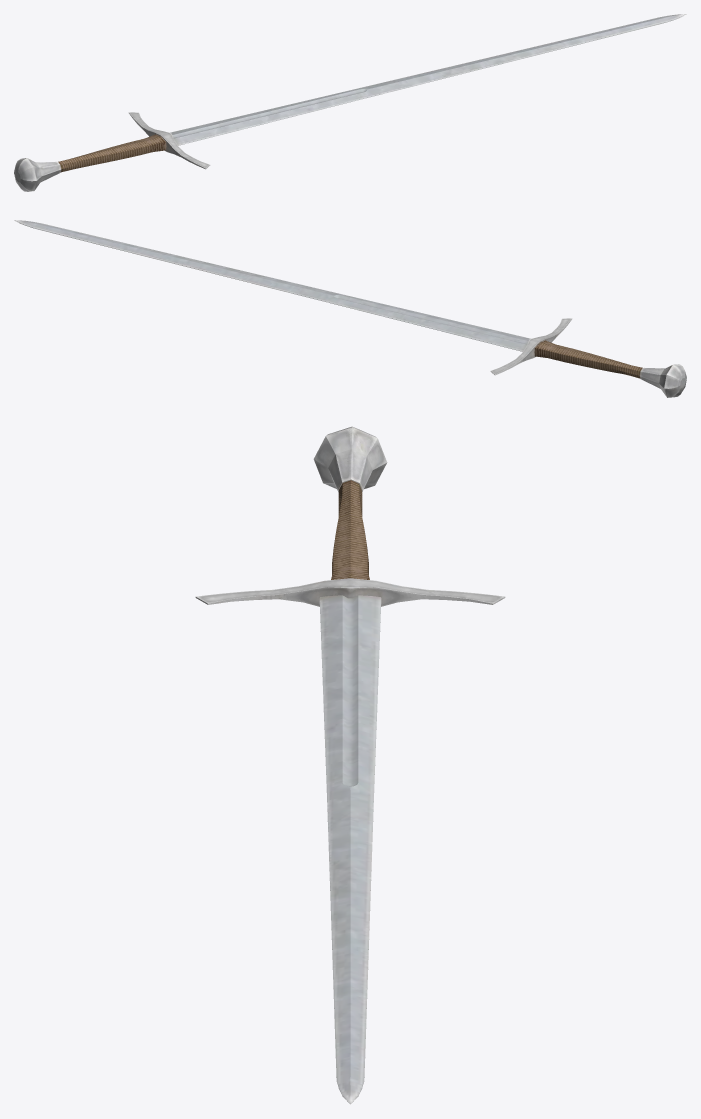
Rendered from longsword.glb.
3 renders of one model, top to bottom at view 1: azimuth 30°, elevation 25°; view 2: azimuth 150°, elevation 25°; view 3: azimuth 270°, elevation 25°, orthographic. The views are drawn at different scales.
Parts seen in each view (by area): view 1: Sword; view 2: Sword; view 3: Sword.
Boxes of the visible parts, x1,y1,x2,y2 form: Sword: (14,14,686,191); Sword: (14,220,686,397); Sword: (195,426,505,1104).
Bounding box in the file's own units: 1.47 × 0.0703 × 0.2953.
1 material, 1 textured.
